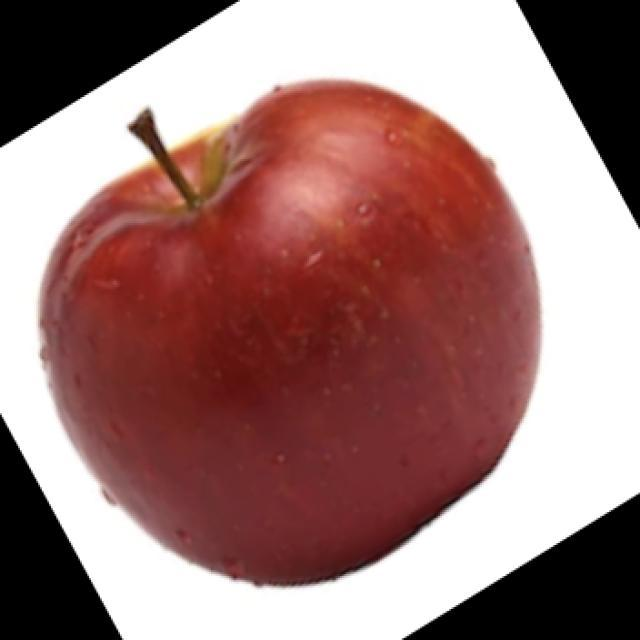Apple: (36, 76, 542, 587)
